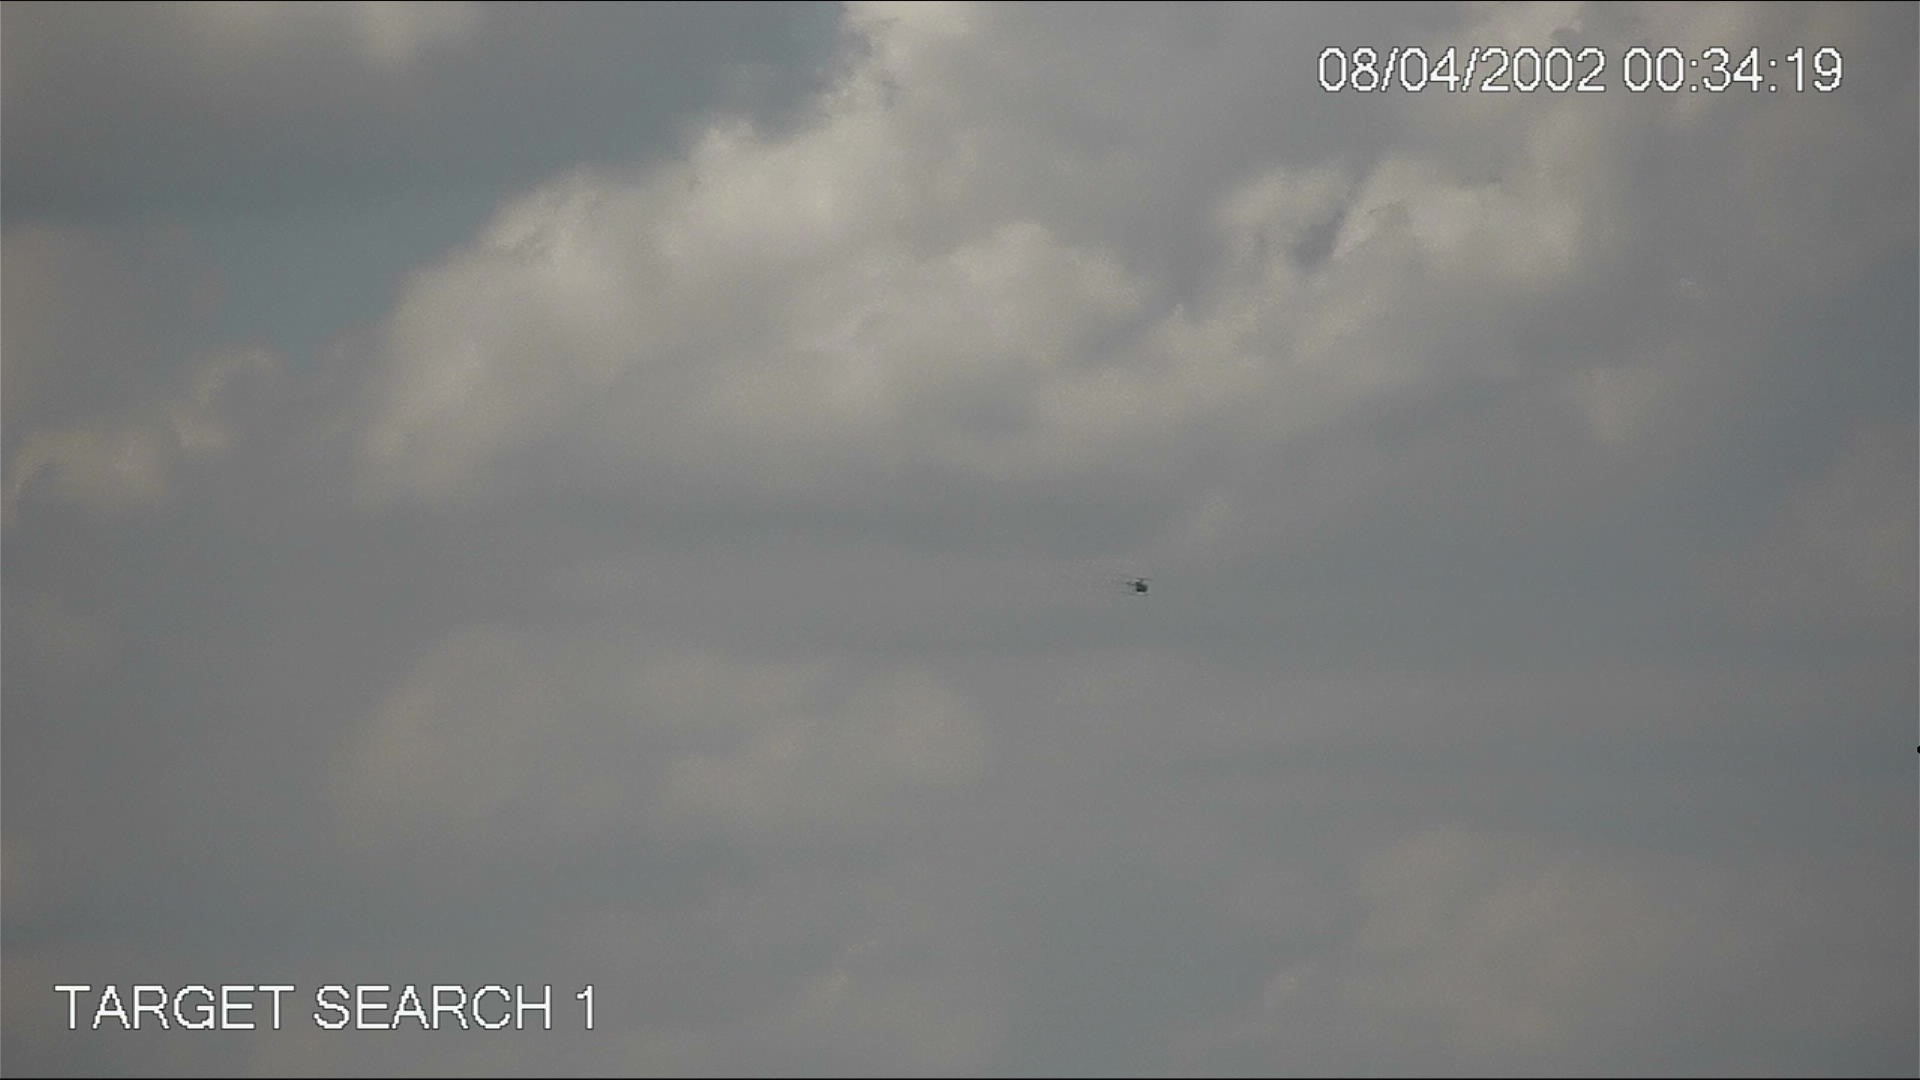SU_30: (1117, 571, 1160, 604)
